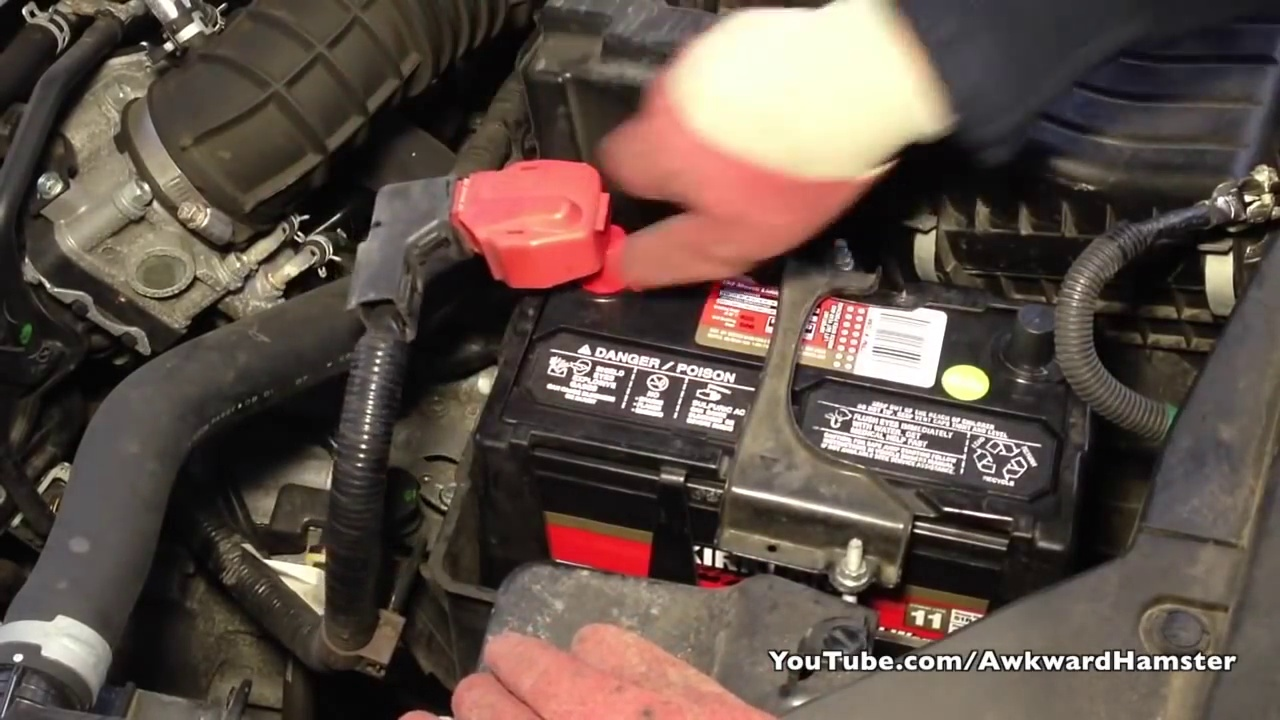battery: (481, 207, 1078, 552)
pos_connected: (391, 132, 645, 311)
pos_touched: (432, 94, 743, 315)
